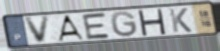A: (56, 14, 86, 42)
E: (81, 11, 112, 41)
G: (109, 10, 139, 38)
H: (136, 8, 168, 36)
K: (168, 8, 194, 34)
V: (24, 14, 53, 45)
